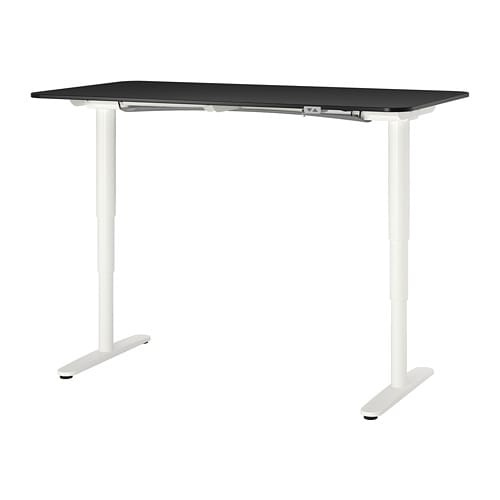obstacle: (31, 81, 467, 419)
